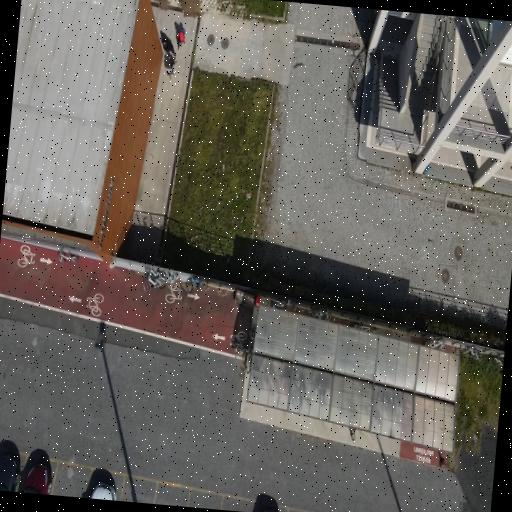car: (23, 465, 51, 494), (0, 455, 18, 491), (90, 483, 115, 500), (265, 510, 273, 511)
person: (163, 52, 175, 77), (176, 23, 184, 51)
